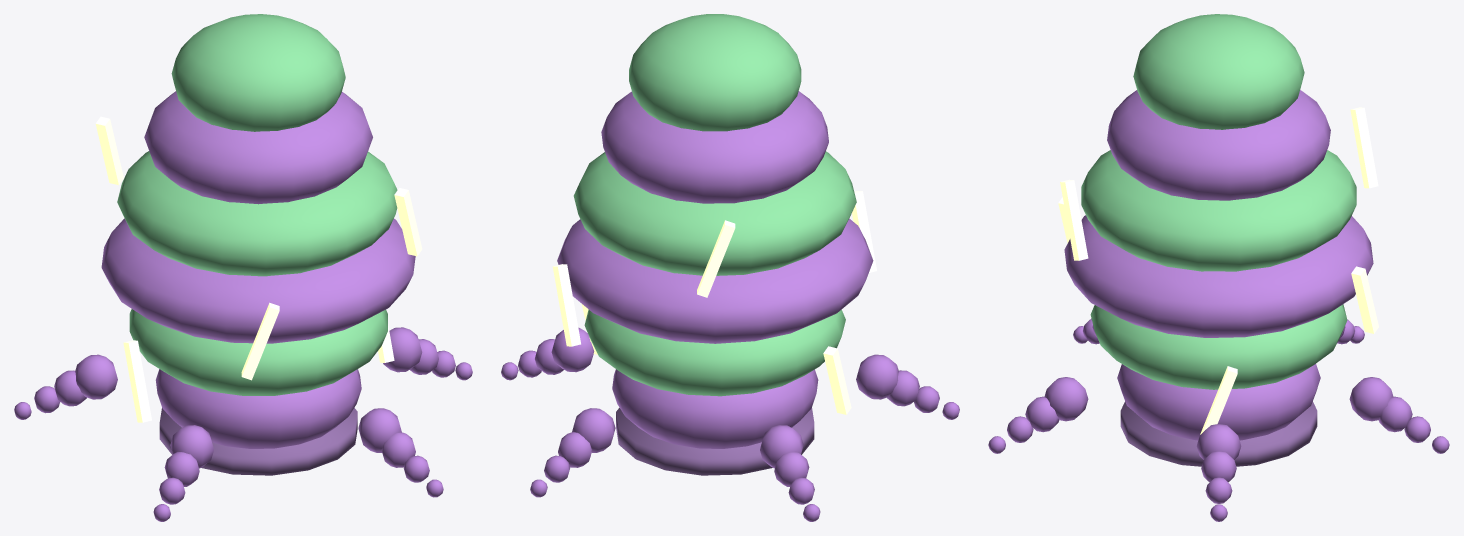
Rendered from egg_alien_08.glb.
The picture shows the model from 3 angles, left to right: view 1: azimuth 30°, elevation 25°; view 2: azimuth 150°, elevation 25°; view 3: azimuth 270°, elevation 25°; orthographic projection.
Visible parts, largest first — view 1: ball; view 2: ball; view 3: ball.
Boxes of the visible parts, x1,y1,x2,y2 form: ball: (14,14,472,521); ball: (501,14,959,521); ball: (988,14,1449,521).
Size of the model in its own units: 0.9843 by 0.99 by 1.03.
